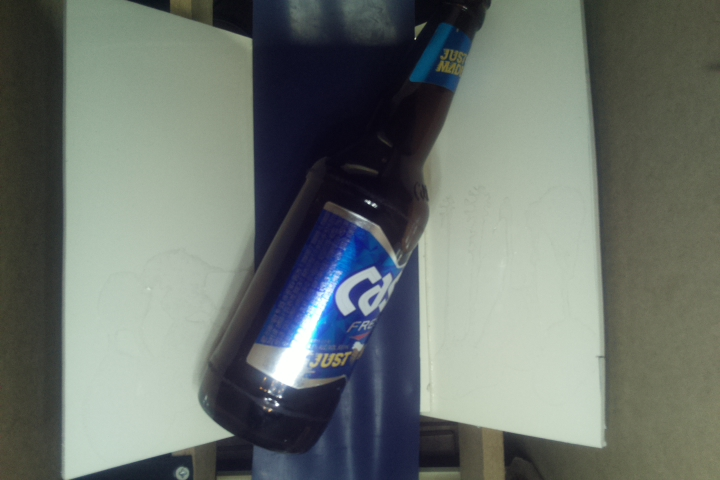makju: (190, 1, 492, 454)
